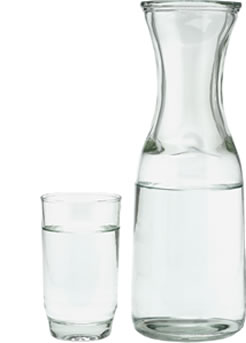glass of water: (147, 33, 232, 334), (49, 198, 111, 343)
